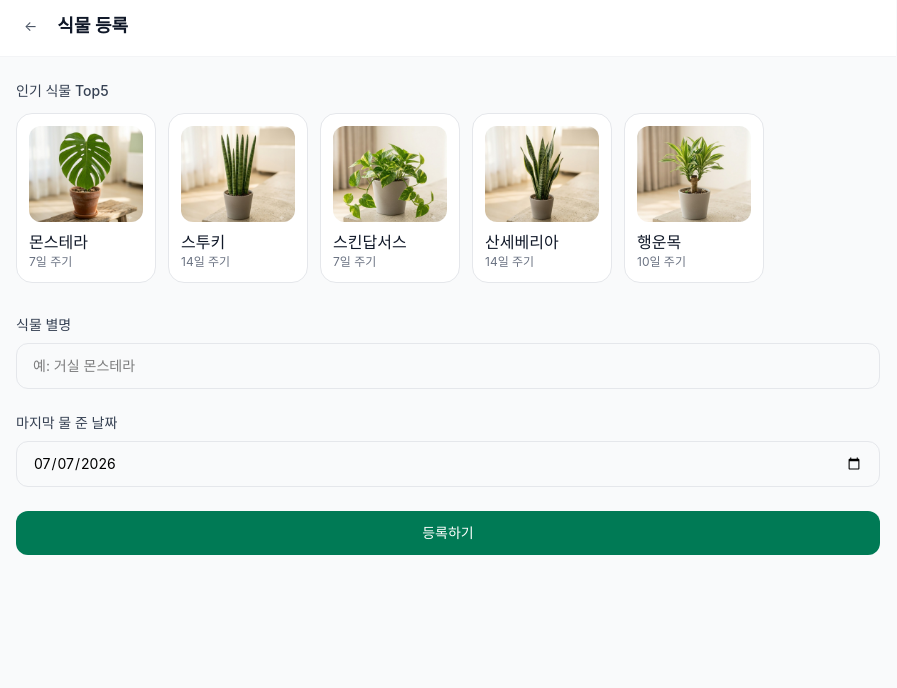
AddPlantPage › shows preset info after selecting a plant
Click the button "몬스테라 7일 주기" at [86, 198], box [16,113,156,283]
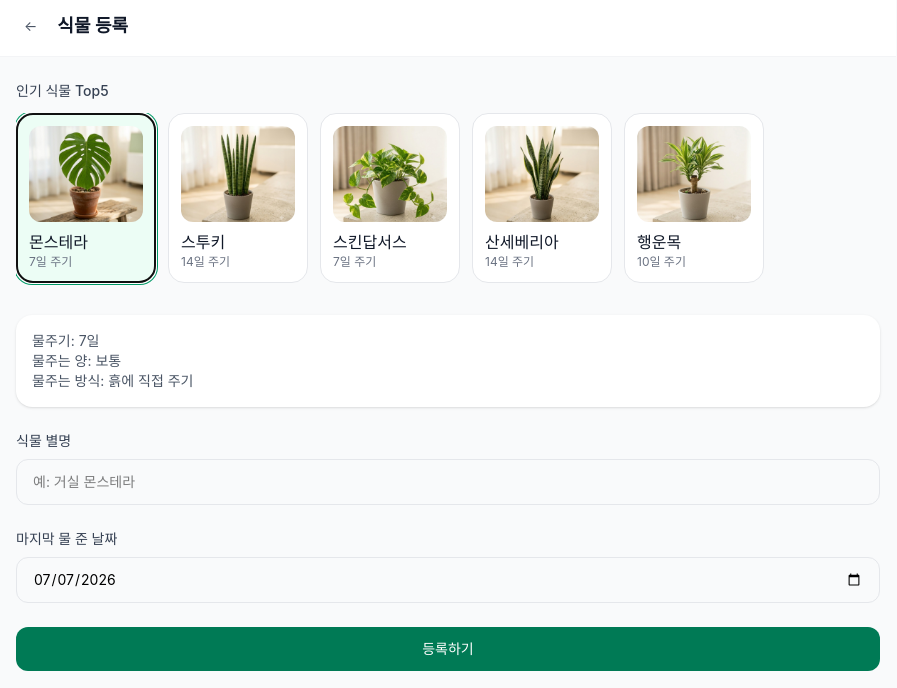
Now the text "물주기: 7일" is shown, box [32,332,100,349]
Now the text "물주는 양: 보통" is shown, box [32,352,121,369]
